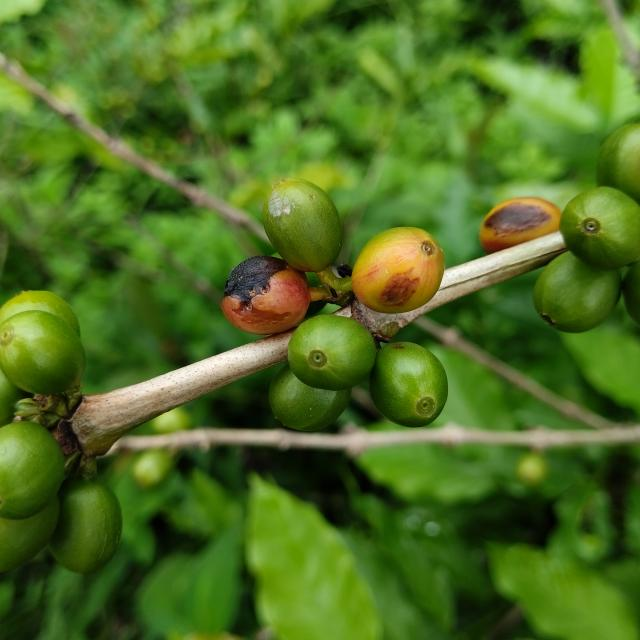green: (263, 179, 342, 273), (0, 310, 85, 395), (534, 251, 622, 333), (48, 479, 121, 575), (370, 342, 449, 428), (288, 315, 376, 391), (560, 186, 640, 269), (0, 421, 64, 520), (269, 365, 351, 432), (0, 497, 59, 573), (0, 291, 80, 336), (598, 123, 640, 202)
red: (352, 227, 445, 313), (221, 255, 311, 335), (480, 197, 562, 253)
